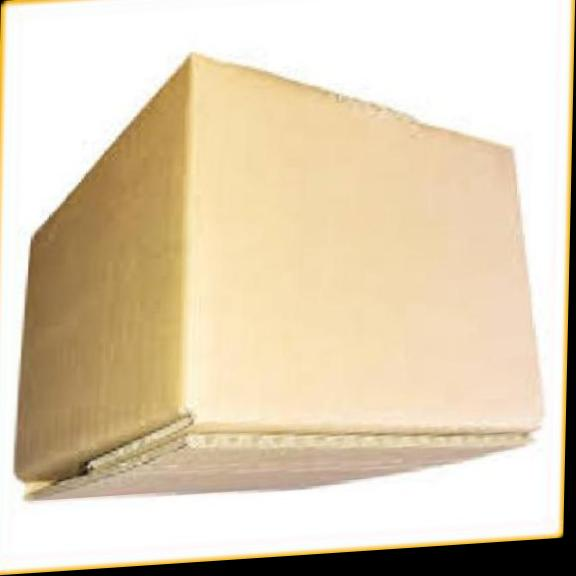Kertas: (16, 57, 540, 499)
